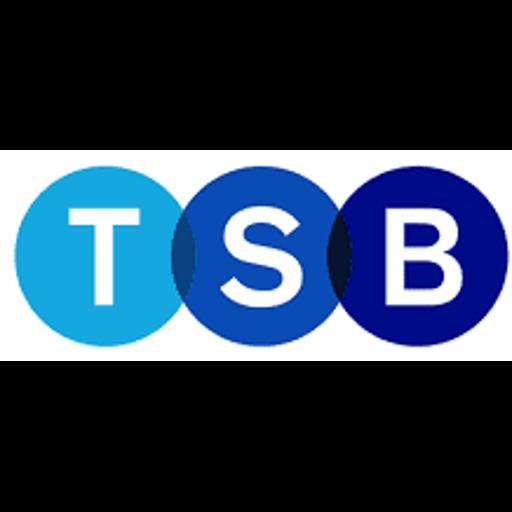TSB Bank Plc: (0, 150, 512, 361)
